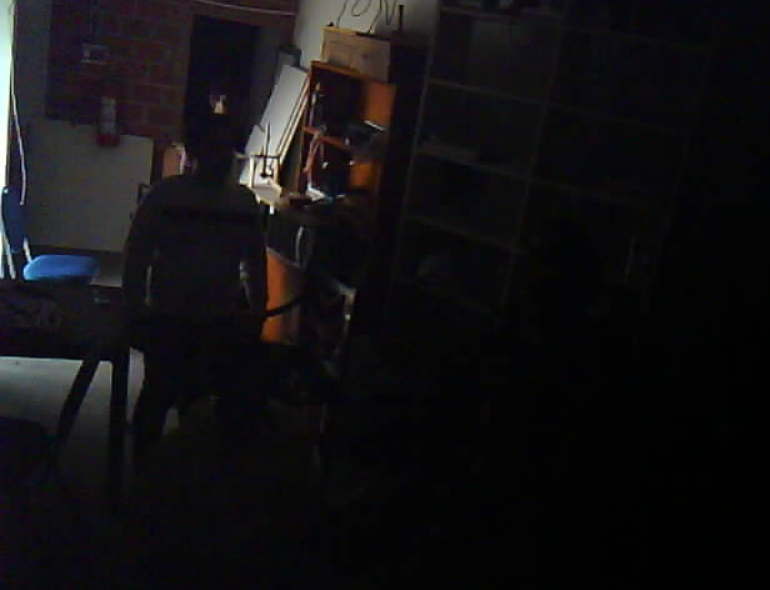person: (88, 102, 279, 512)
